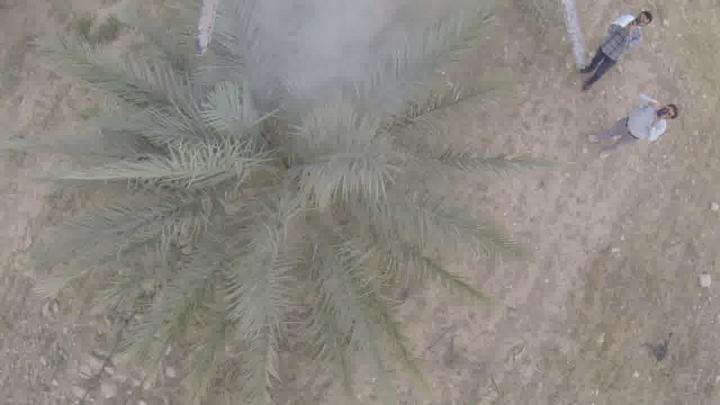Date-Palm-Crown: (137, 21, 416, 319)
